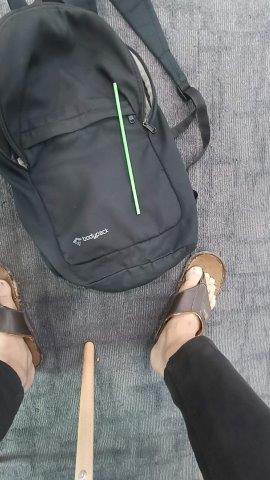sedotan: (113, 84, 140, 215)
